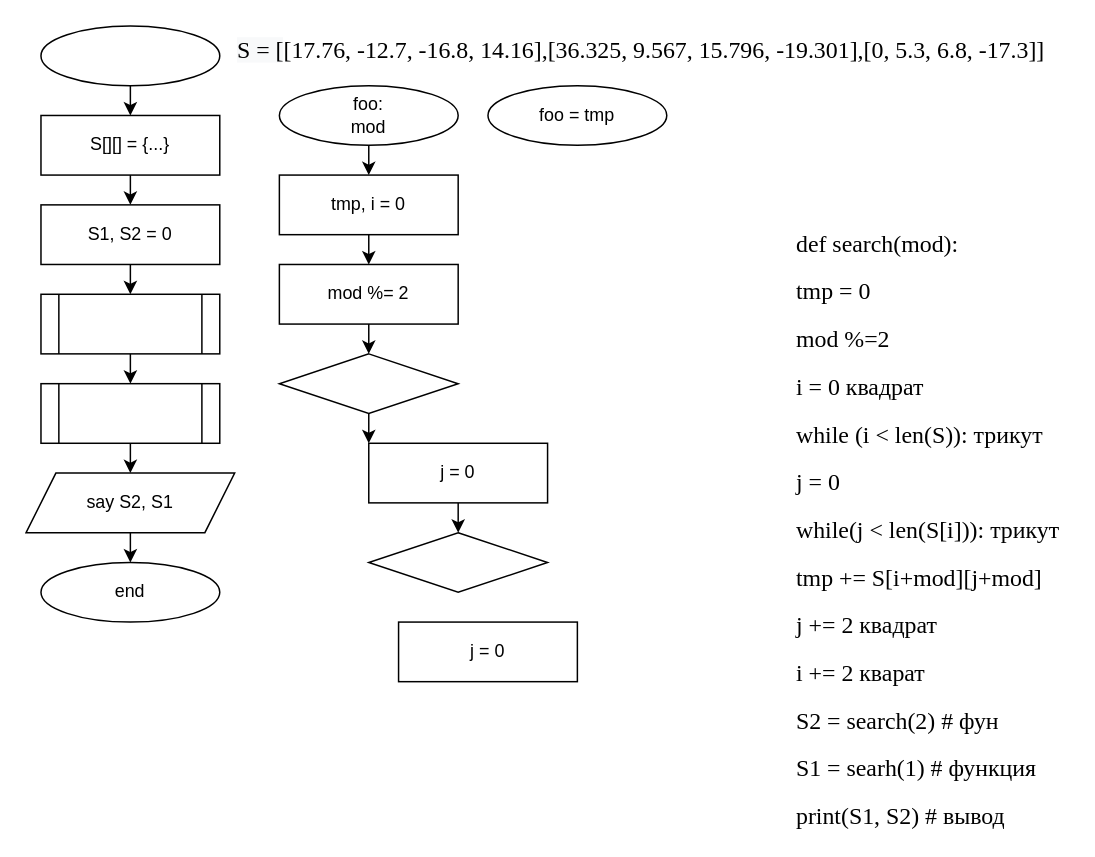
The diagram is 1095 pixels wide and 857 high, and some of its shapes have lost their labels. Each missing label, with the centre of its shape:
"begin" goes at (129,55).
"i < len(S)" goes at (368,382).
"j < len(S[i])" goes at (457,561).
"S1 = foo(1)" goes at (129,323).
"S2 = foo(2)" goes at (129,412).
